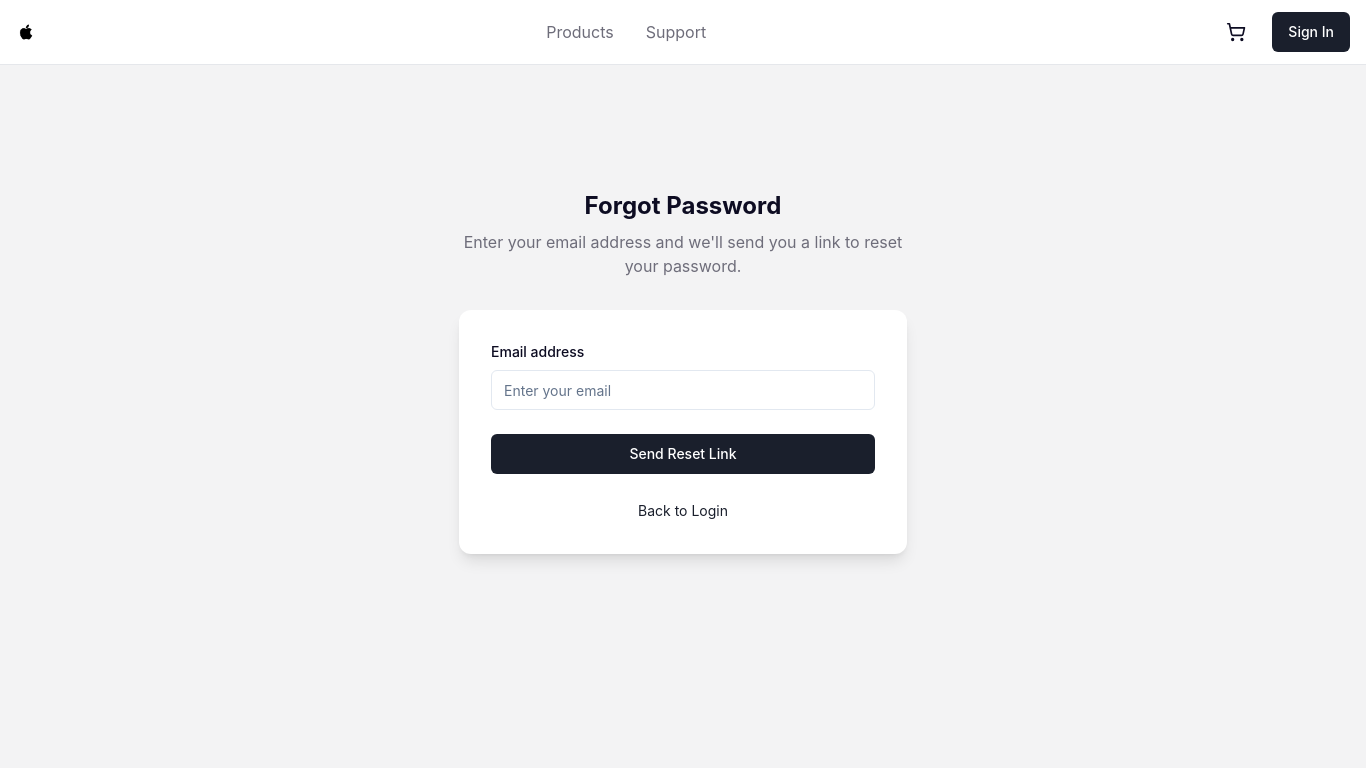
Forgot Password Test › Should display an error message if the email is not entered.
Click the submit button: [683, 454] box [491, 434, 875, 474]
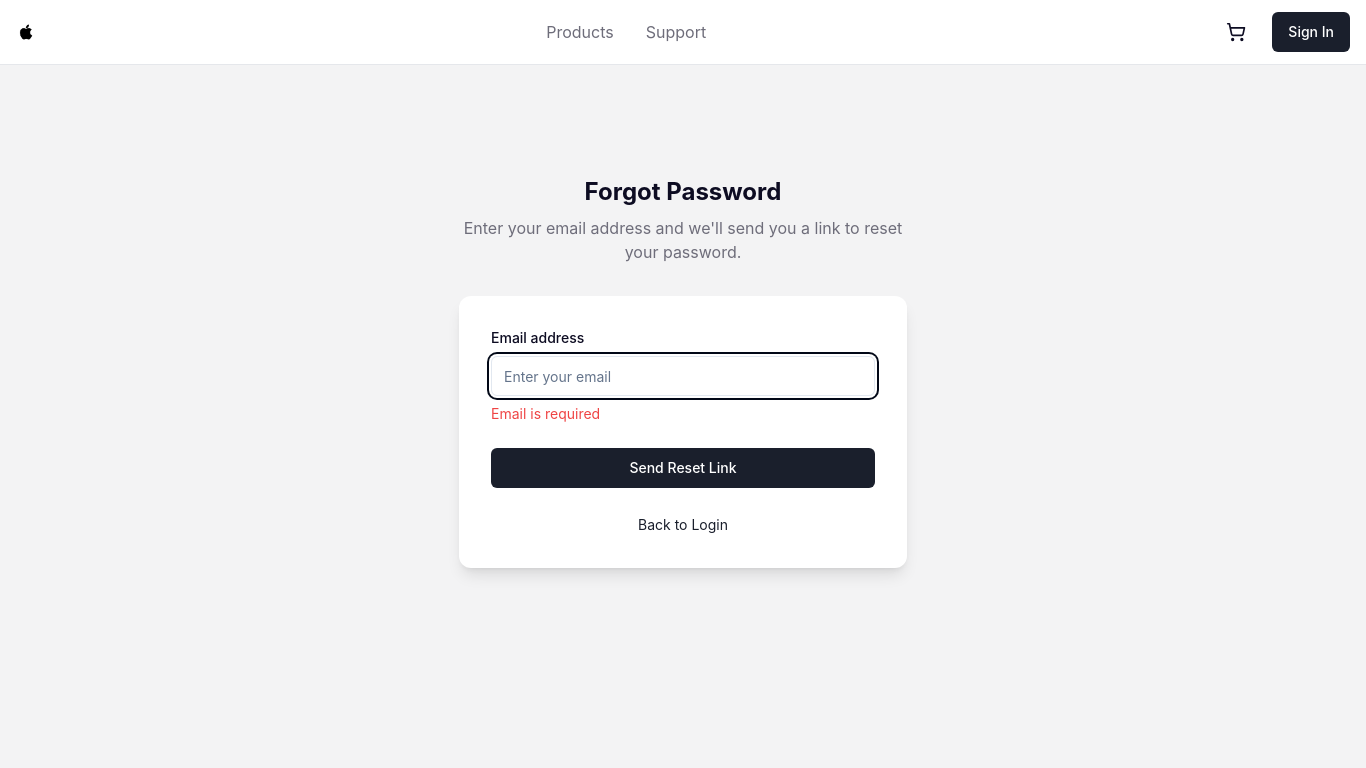
Result: the text "Email is required" is shown at [491, 405, 600, 422]
